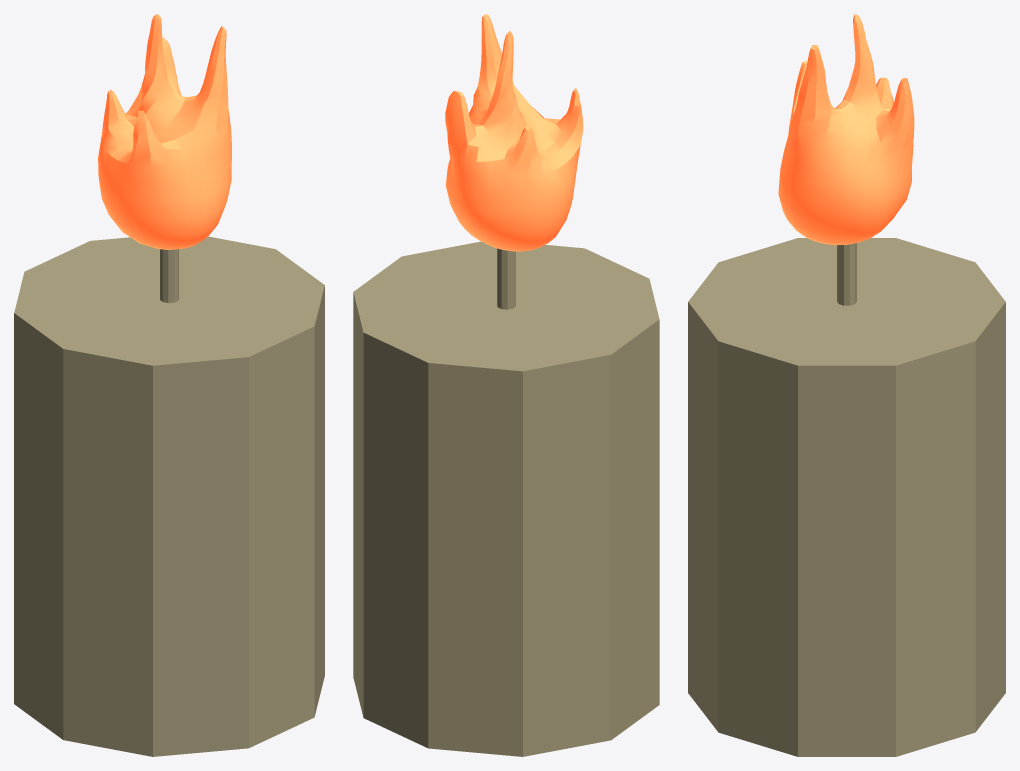
File: FL_Candle 2.fbx
3 views of the same model, side by side, from view 1: azimuth 30°, elevation 25°; view 2: azimuth 150°, elevation 25°; view 3: azimuth 270°, elevation 25° (orthographic).
Visible parts, largest first — view 1: Candle 1.005; view 2: Candle 1.005; view 3: Candle 1.005.
Part boxes in pixels (left/top/right/bottom): Candle 1.005: left=14, top=14, right=324, bottom=756; Candle 1.005: left=353, top=14, right=659, bottom=756; Candle 1.005: left=688, top=14, right=1005, bottom=756.
Bounding box in the file's own units: 22.83 × 56.29 × 24.
